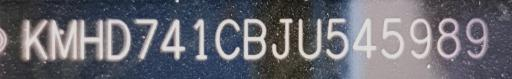letter: (294, 15, 326, 62), (48, 16, 80, 63), (130, 14, 158, 63), (103, 16, 133, 61), (158, 16, 188, 61), (18, 16, 48, 61), (240, 15, 268, 62), (212, 17, 242, 60), (462, 15, 490, 60), (377, 16, 405, 61), (406, 16, 434, 61), (434, 16, 462, 61), (324, 13, 350, 60), (352, 16, 378, 61), (78, 17, 104, 62), (270, 16, 294, 61), (190, 16, 210, 61)
